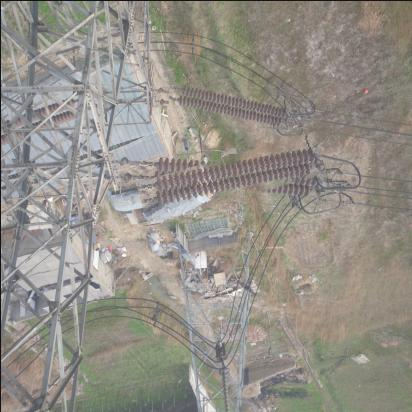insulator: (137, 144, 325, 213), (169, 87, 291, 128)
